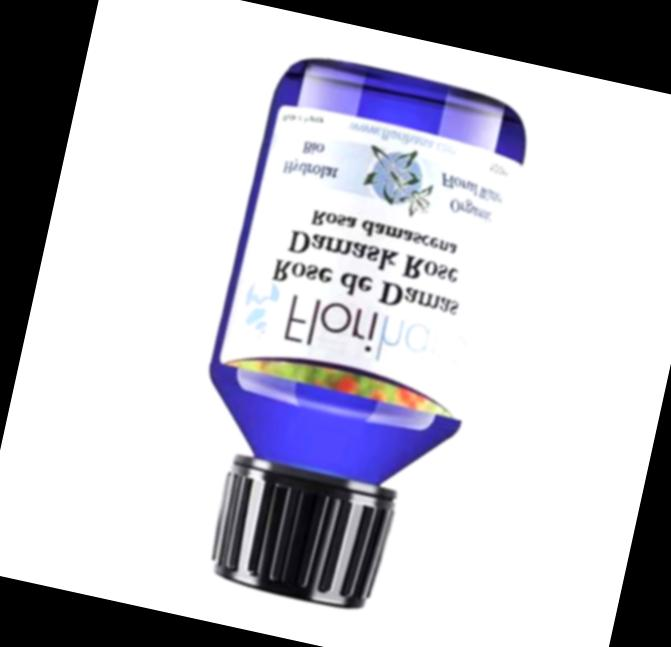cosmetic: (160, 49, 536, 629)
